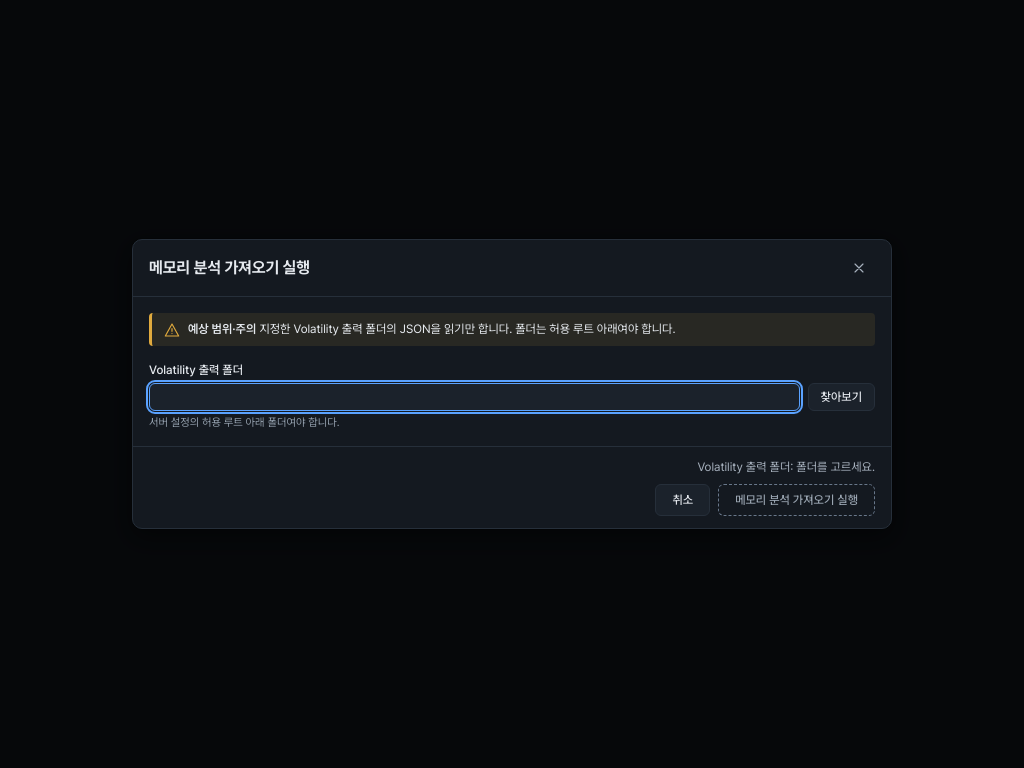
it: 10. analysis file picker starts at the run's allowed roots › lists the roots first (scope + run_id, no home folder) and never goes above a root
Click the button "찾아보기". click: (841, 397)
box: [808, 383, 875, 411]
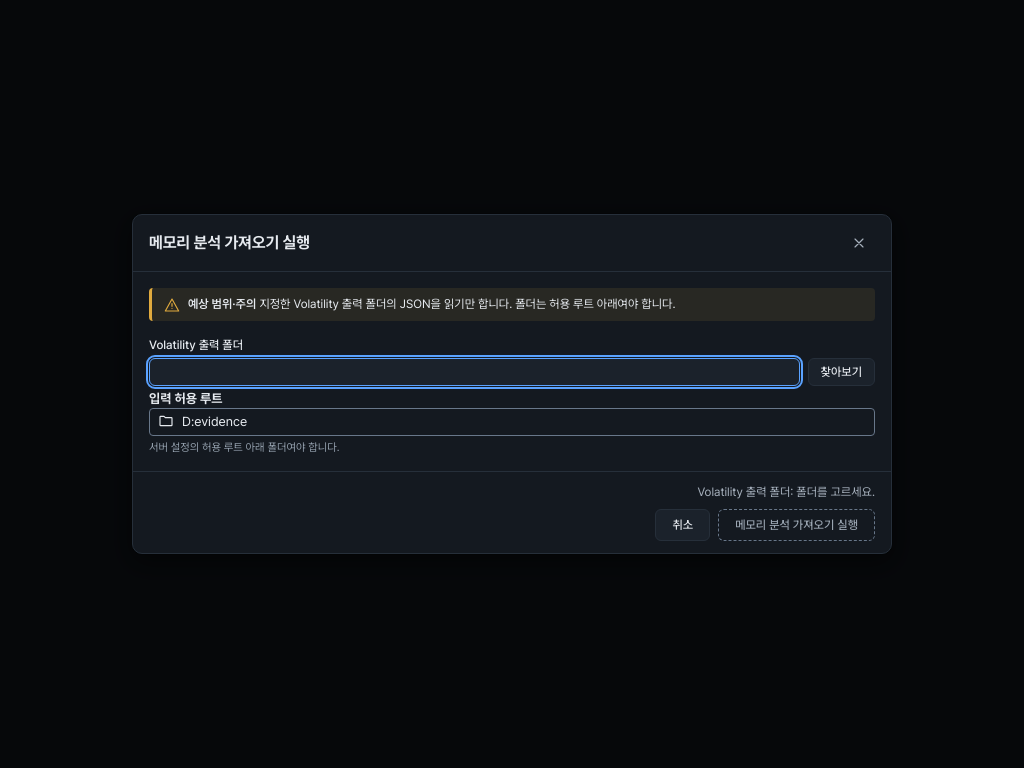
Expected: the button "이 폴더 선택" is not shown
Expected: the text with test id "browse-roots-title" reads "입력 허용 루트", [149, 391, 222, 406]
Click the button "D:evidence". click: (215, 421)
box: [150, 409, 874, 435]
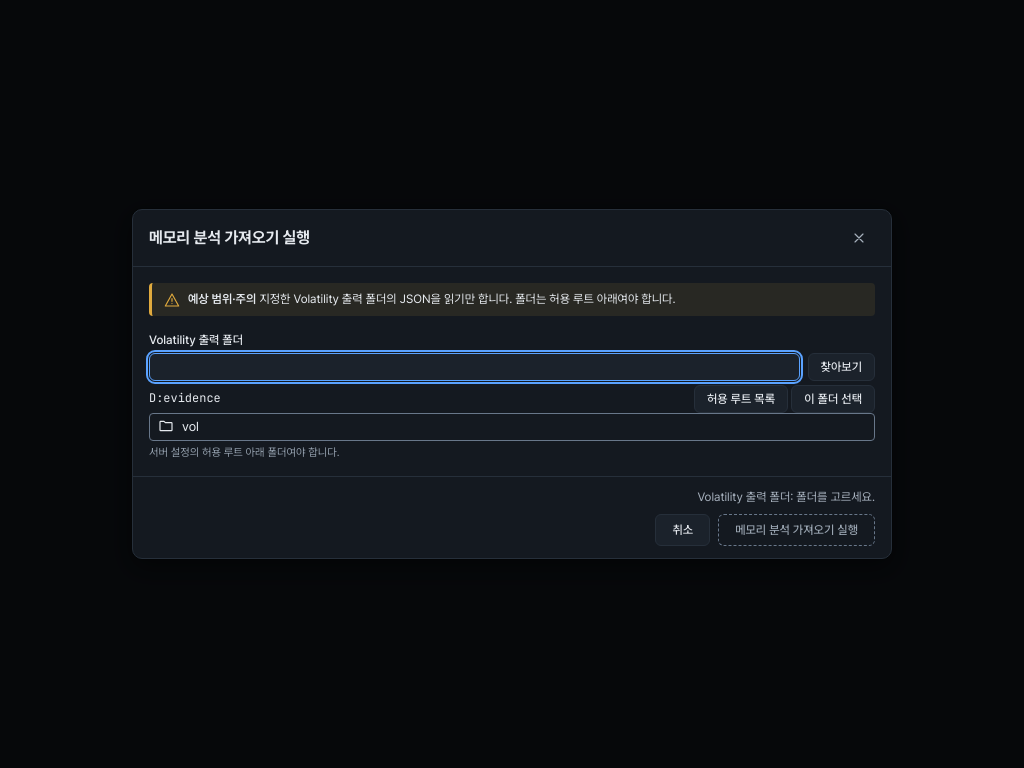
Expected: the list named "폴더 목록" is shown, [149, 413, 875, 441]
Click the button "허용 루트 목록". click: (741, 399)
box: [694, 385, 788, 413]
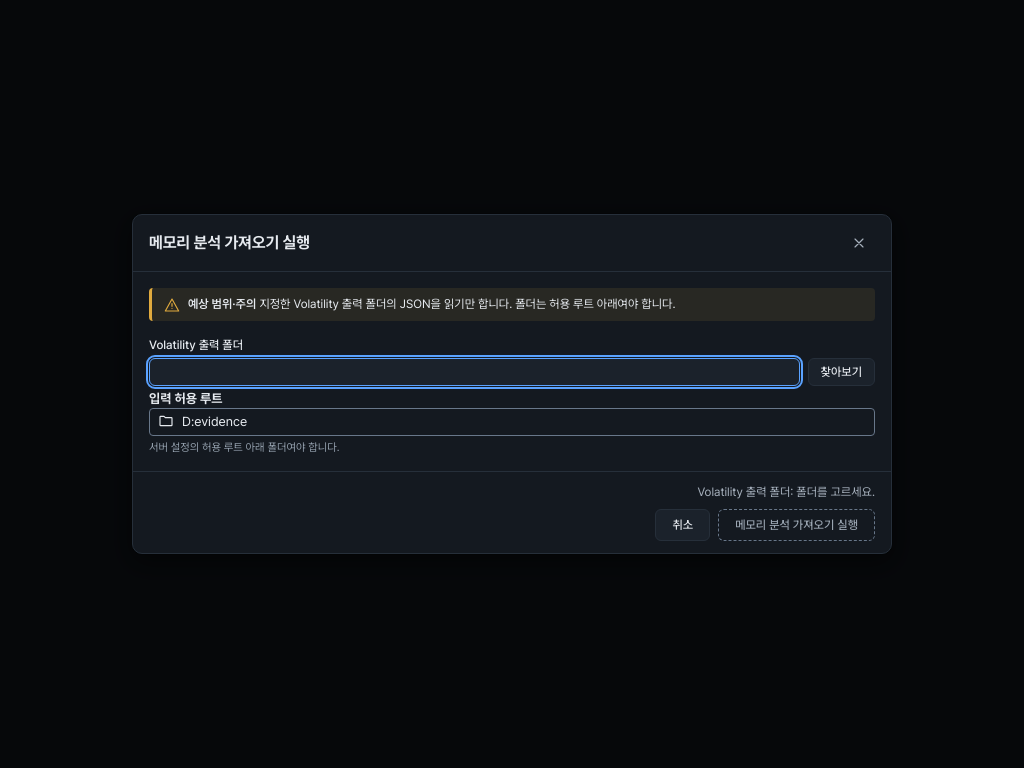
Expected: the list named "허용 루트" is shown, [149, 408, 875, 436]
